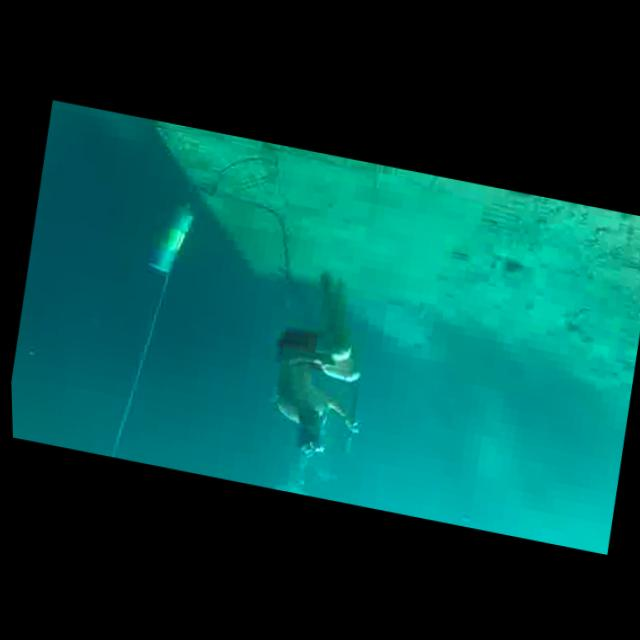human: (246, 252, 388, 472)
